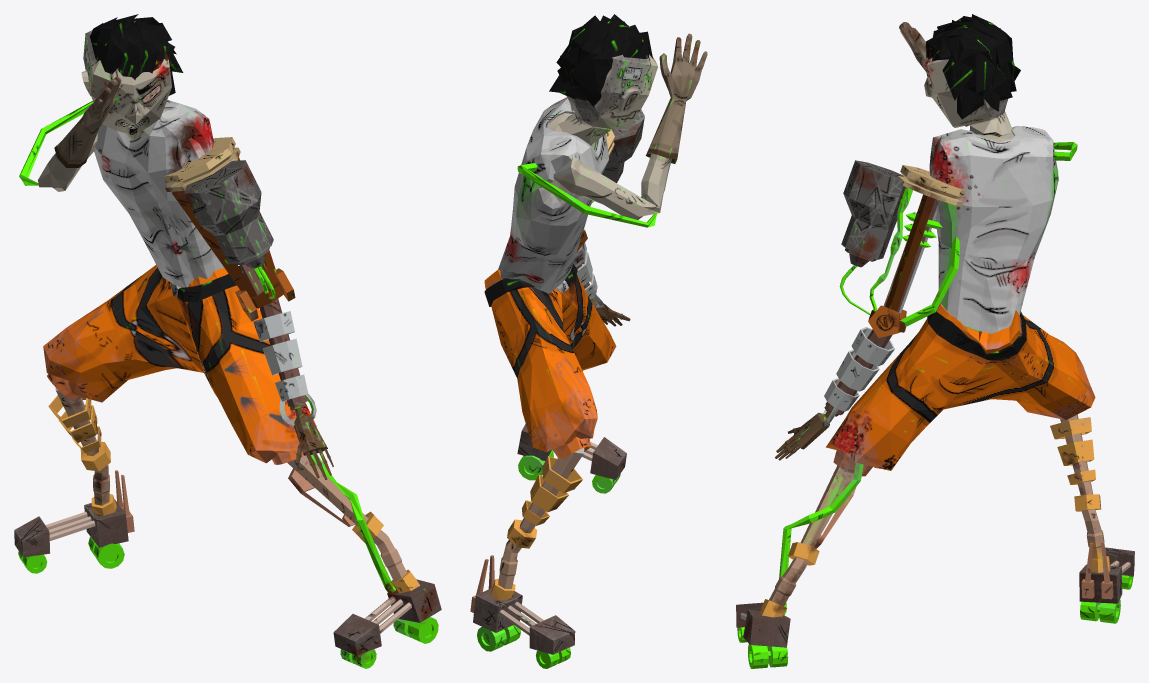
The model's file is CyborgFINALAnimation_000001.obj.
3 views of the same model, side by side, from view 1: azimuth 30°, elevation 25°; view 2: azimuth 150°, elevation 25°; view 3: azimuth 270°, elevation 25° (orthographic). The views are drawn at different scales.
Parts seen in each view (by area): view 1: CyborgMesh_Cube.002; view 2: CyborgMesh_Cube.002; view 3: CyborgMesh_Cube.002.
Boxes of the visible parts, box(x1,y1,x2,y2) form: CyborgMesh_Cube.002: box(14, 14, 441, 668); CyborgMesh_Cube.002: box(470, 14, 707, 668); CyborgMesh_Cube.002: box(736, 14, 1134, 668).
Size of the model in its own units: 4.1 by 8.69 by 5.42.
